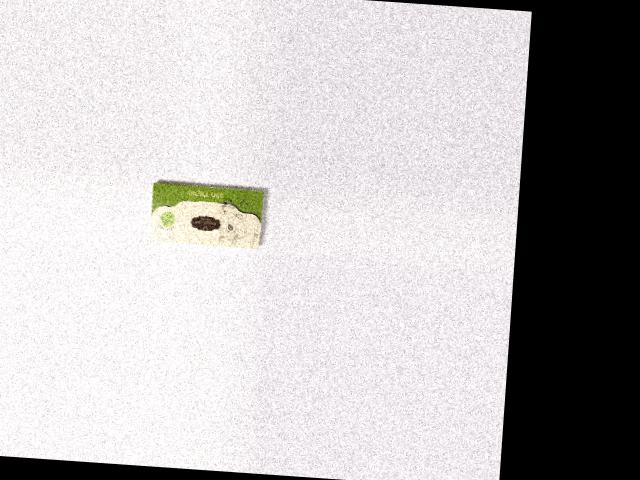chocolate: (148, 180, 265, 250)
